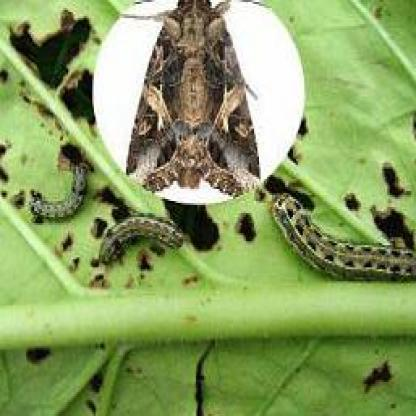armyworm: (120, 0, 268, 198), (272, 185, 416, 286), (94, 202, 186, 270), (27, 164, 92, 225)
